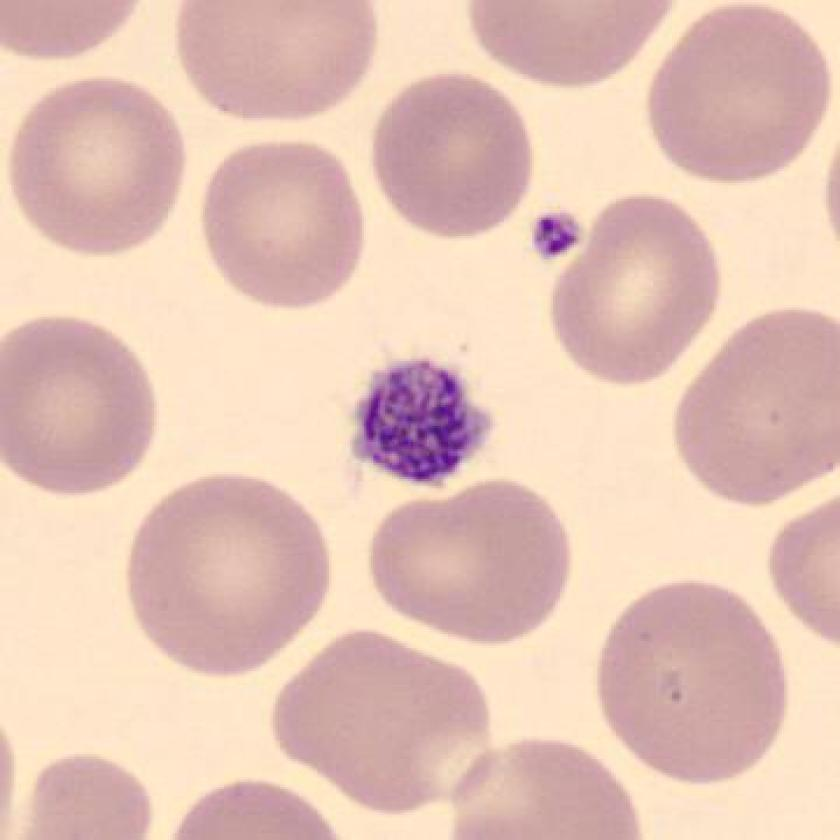platelets: (337, 346, 503, 501), (524, 193, 594, 272)
